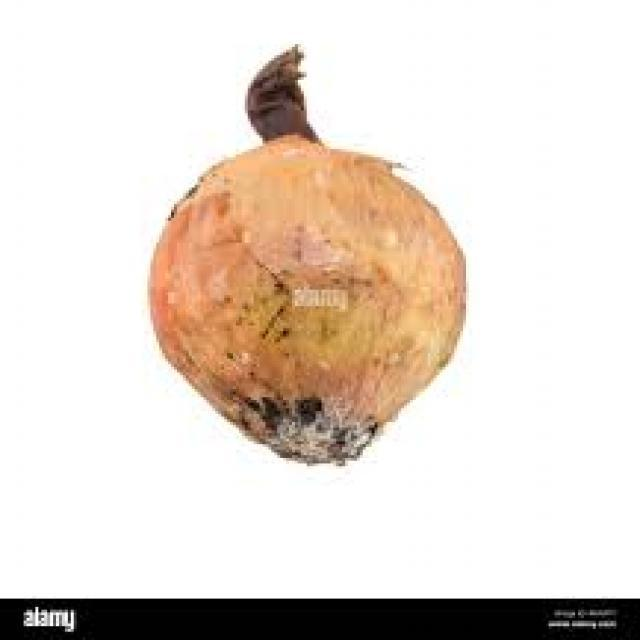Onion: (145, 44, 467, 467)
